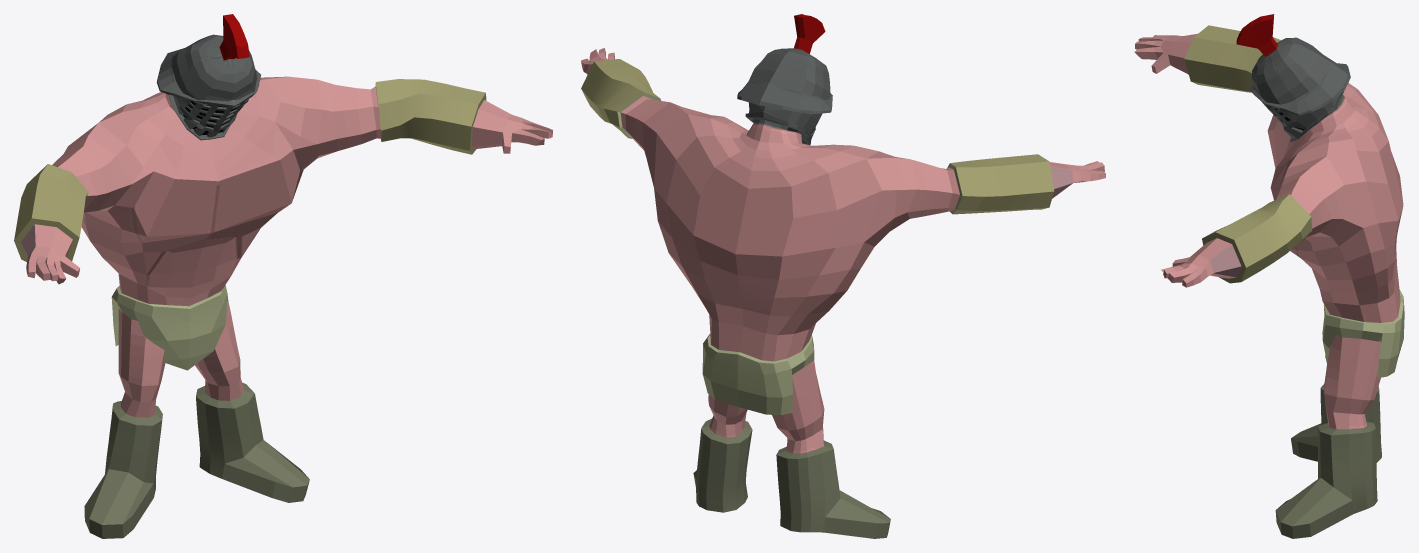
The model's file is GladiatorCelebracion_000527.obj.
3 renders of one model, left to right at view 1: azimuth 30°, elevation 25°; view 2: azimuth 150°, elevation 25°; view 3: azimuth 270°, elevation 25°, orthographic. The views are drawn at different scales.
Parts seen in each view (by area): view 1: Gadiador_Gladiador_H; view 2: Gadiador_Gladiador_H; view 3: Gadiador_Gladiador_H.
Boxes of the visible parts, left/top/right/bottom form: Gadiador_Gladiador_H: left=14, top=14, right=552, bottom=538; Gadiador_Gladiador_H: left=581, top=14, right=1105, bottom=538; Gadiador_Gladiador_H: left=1134, top=14, right=1404, bottom=538.
Bounding box in the file's own units: 7.97 × 7.2 × 3.66.
1 material, 1 textured.
